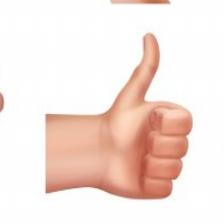five: (89, 28, 198, 204)
